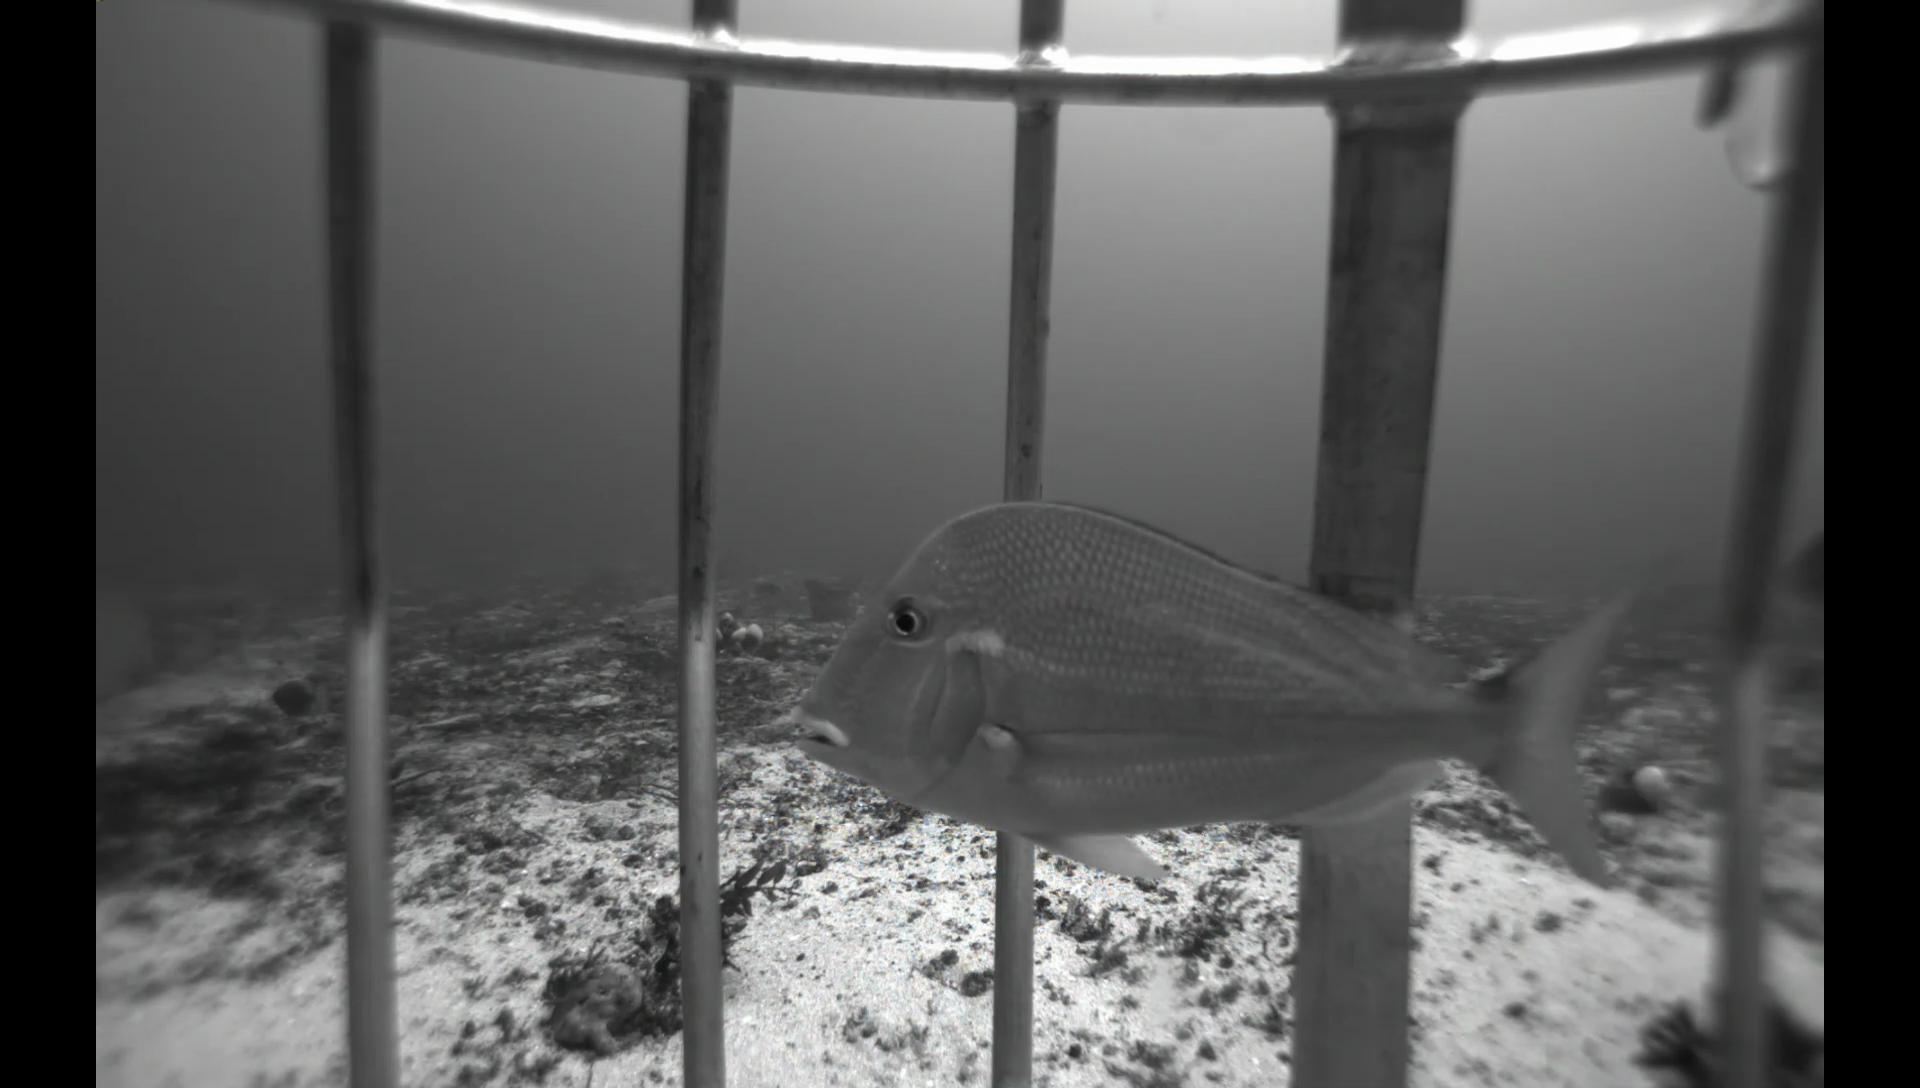CALAMUSNODOSUS-170210608: (94, 586, 166, 710)
CALAMUSPRORIDENS-170210605: (745, 481, 1681, 924)
CHAETODONOCELLATUS-170260307: (1619, 619, 1642, 640)
EPINEPHELUSMORIO-170021211: (1764, 516, 1826, 638)
PRISTIGENYSALTA-170050401: (265, 675, 339, 729)
